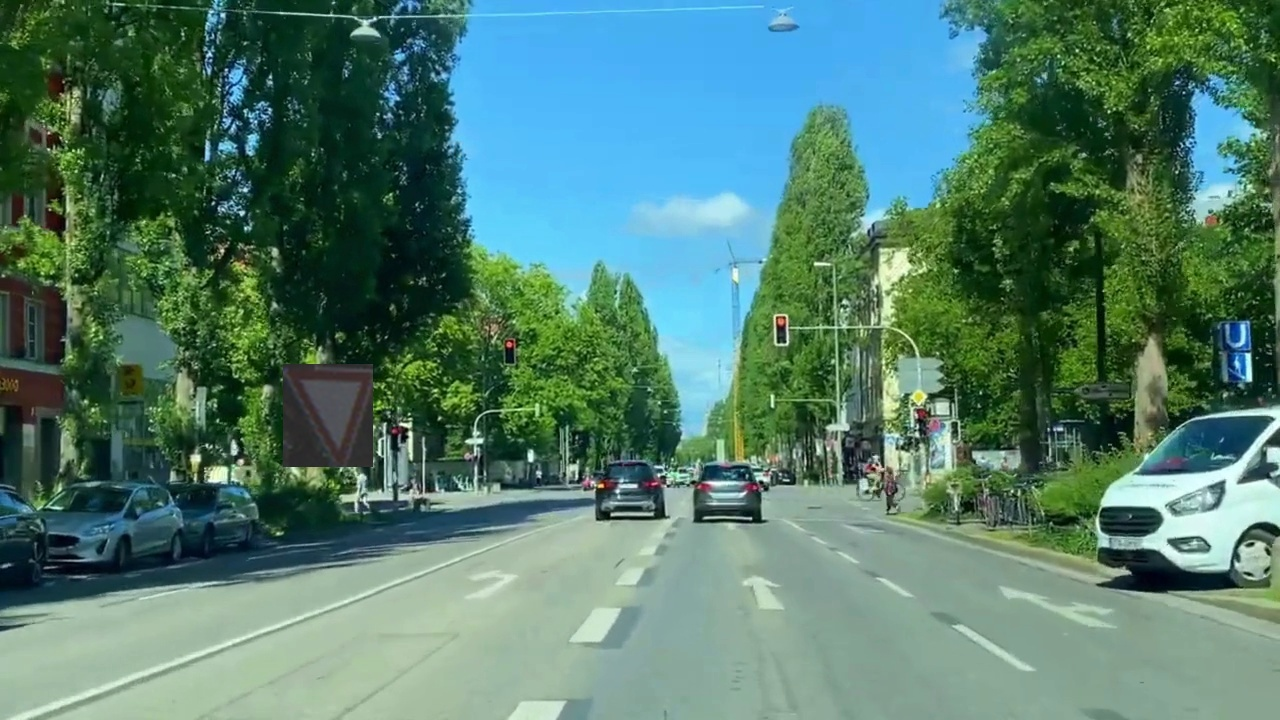Yield: (283, 364, 373, 467)
